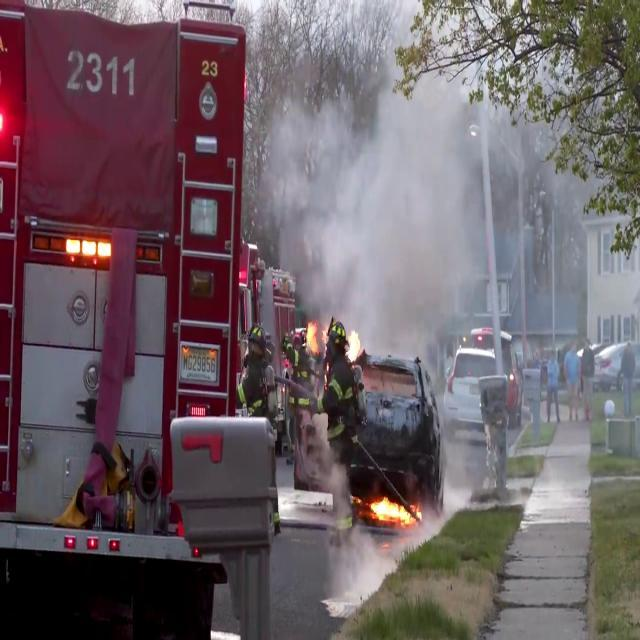Fire: (366, 488, 416, 530)
Smoke: (260, 40, 620, 338)
